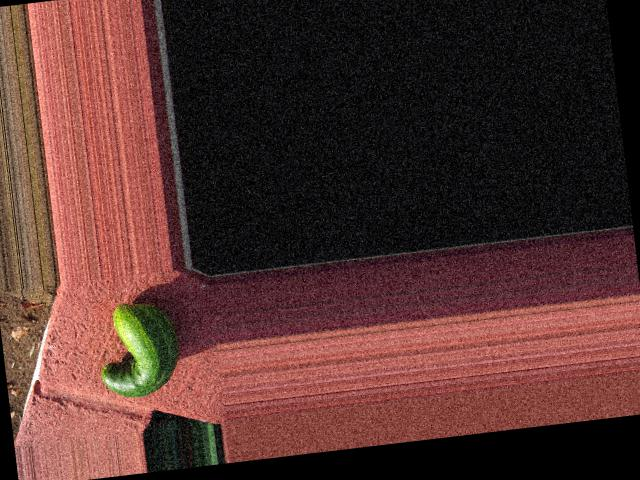cucumber: (92, 298, 183, 401)
